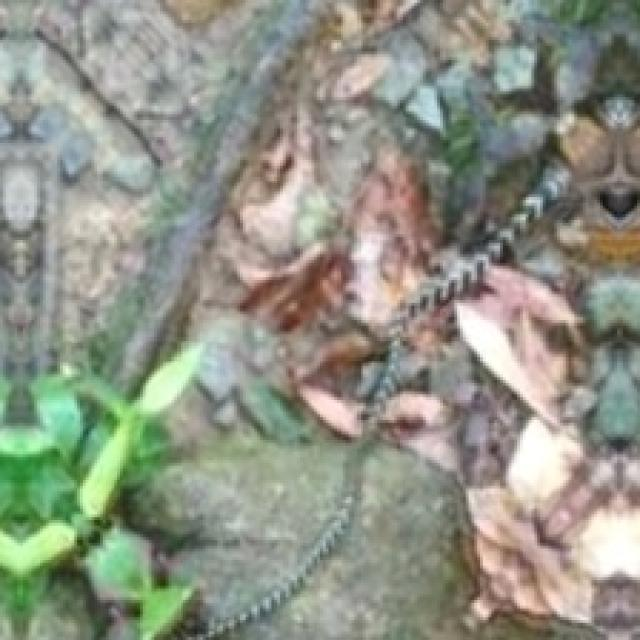king cobra: (190, 166, 568, 639)
